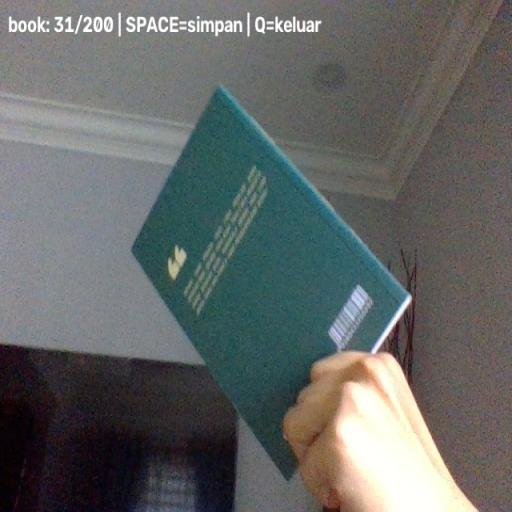Book: (132, 84, 413, 481)
